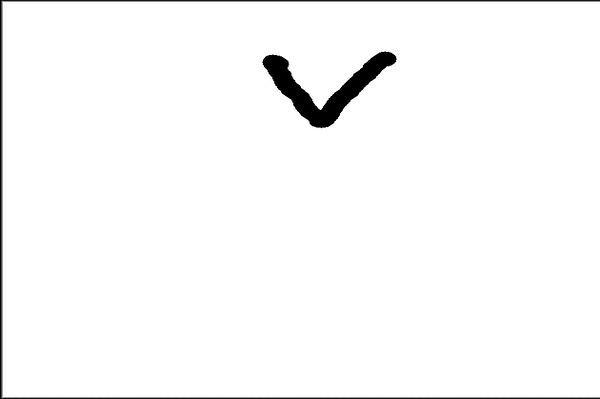V: (252, 31, 400, 133)
